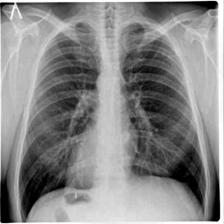tuberculosis: (14, 18, 212, 220)
